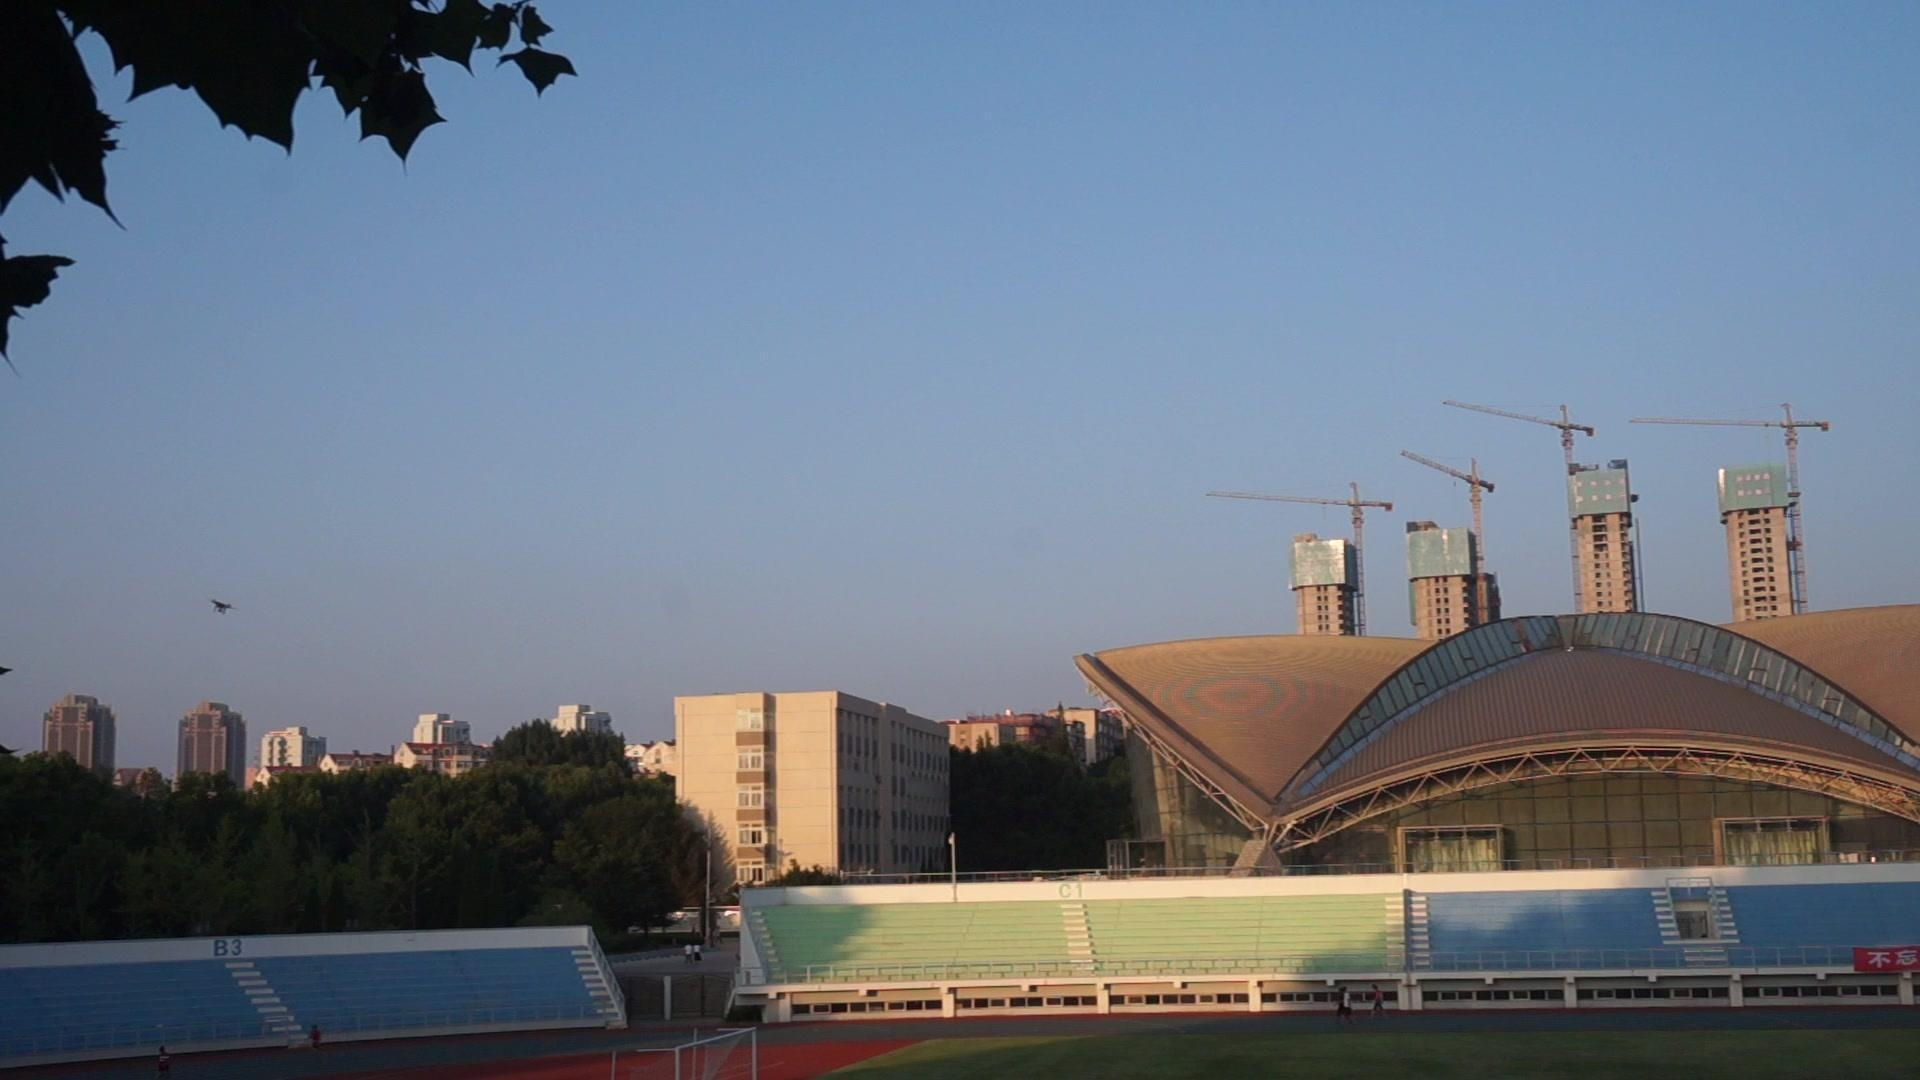UAV: (208, 600, 241, 616)
